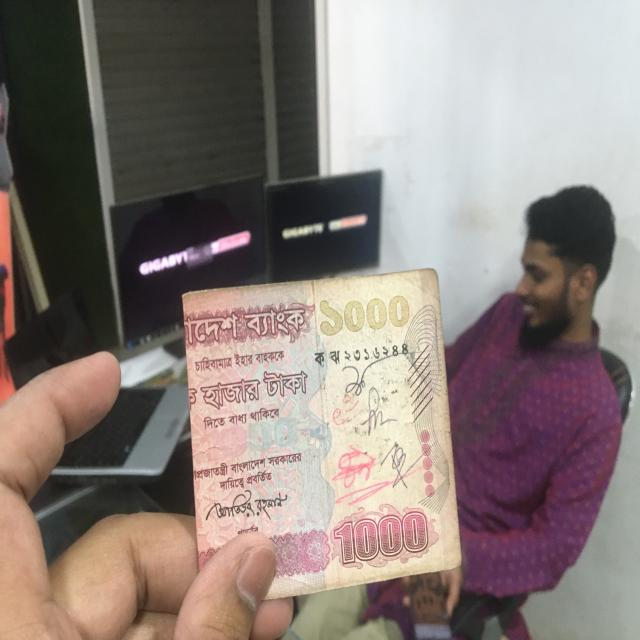Taka: (178, 293, 461, 576)
